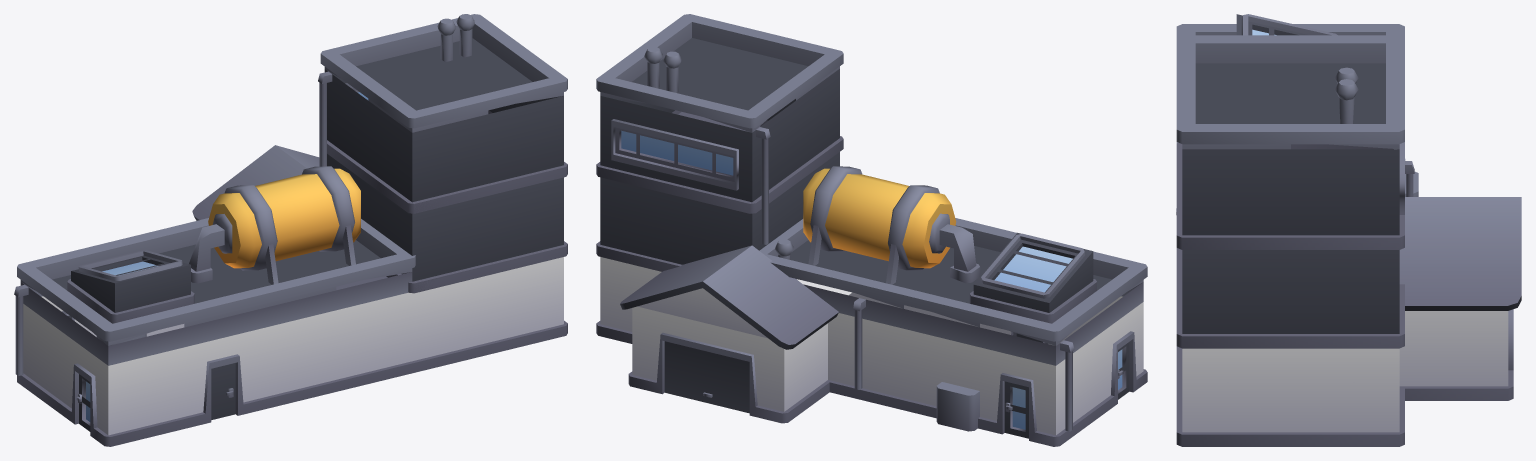
File: building-r.lod.glb
The picture shows the model from 3 angles, left to right: view 1: azimuth 30°, elevation 25°; view 2: azimuth 150°, elevation 25°; view 3: azimuth 270°, elevation 25°; orthographic projection. The views are drawn at different scales.
Visible parts, largest first — view 1: building-r; view 2: building-r; view 3: building-r.
Part boxes in pixels (box(x1,y1,x2,y2)): building-r: box(14, 14, 567, 446); building-r: box(596, 14, 1147, 446); building-r: box(1176, 14, 1521, 446).
Size of the model in its own units: 2.48 by 1.39 by 1.27.
1 material, 1 textured.
